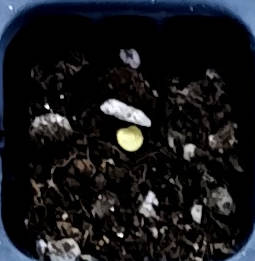pepper seed: (42, 47, 188, 200)
